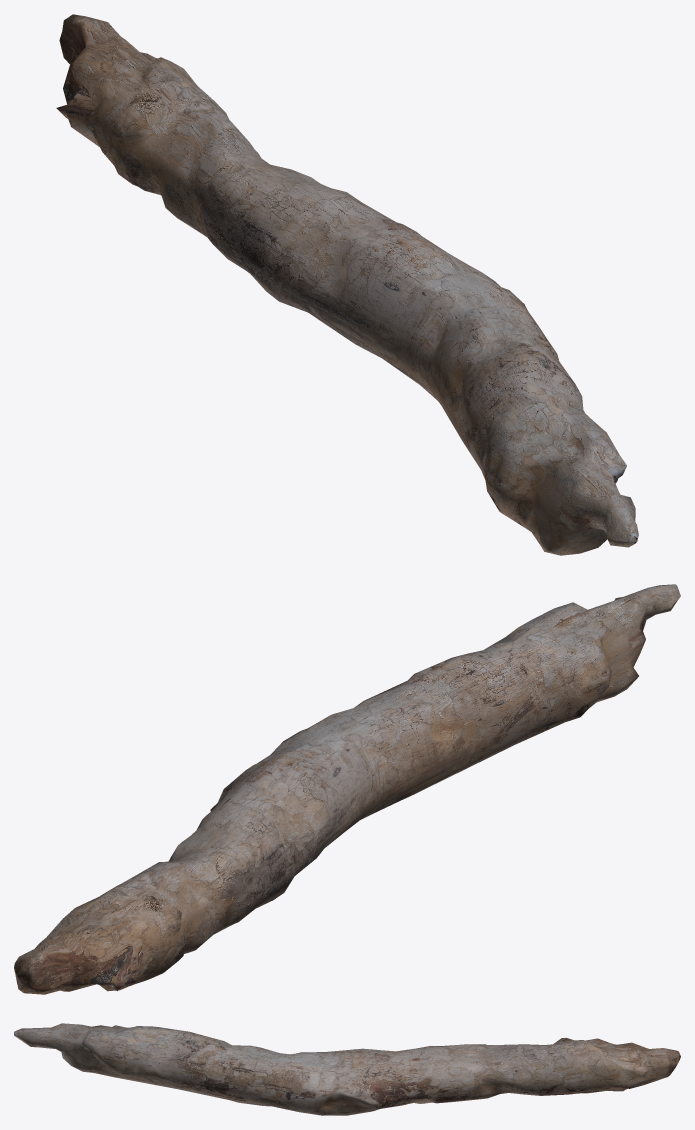
File: sm_Debris_01_01.fbx
3 renders of one model, top to bottom at view 1: azimuth 30°, elevation 25°; view 2: azimuth 150°, elevation 25°; view 3: azimuth 270°, elevation 25°, orthographic. The views are drawn at different scales.
Visible parts, largest first — view 1: sm_Debris_01_01_LOD0; view 2: sm_Debris_01_01_LOD0; view 3: sm_Debris_01_01_LOD0.
Boxes of the visible parts, left/top/right/bottom form: sm_Debris_01_01_LOD0: left=56, top=14, right=638, bottom=555; sm_Debris_01_01_LOD0: left=14, top=584, right=680, bottom=994; sm_Debris_01_01_LOD0: left=14, top=1023, right=680, bottom=1115.
Size of the model in its own units: 28.16 by 148 by 15.19.
